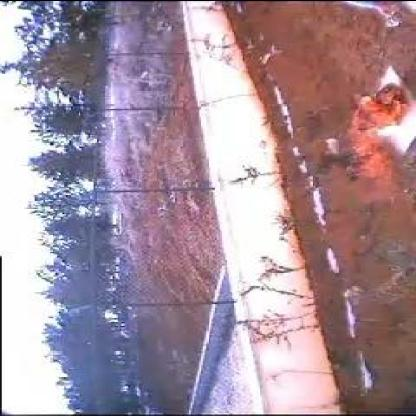foggia-v2-map80-epoch100 - v1 4323: (353, 82, 401, 180)
